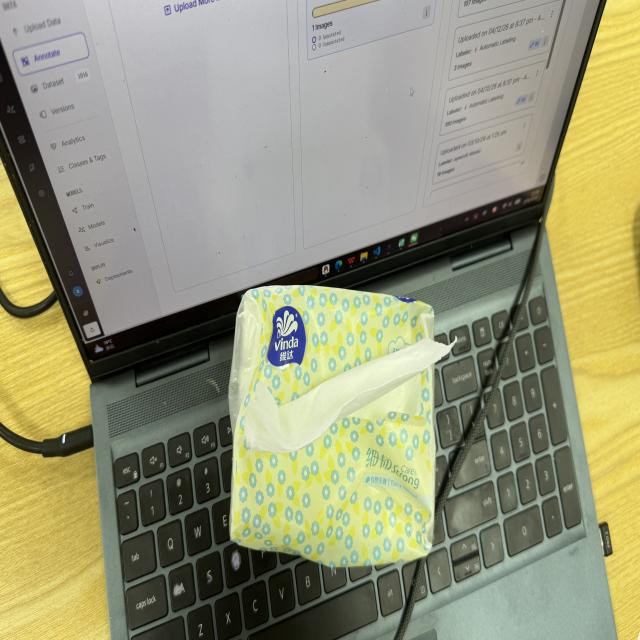tissue: (230, 287, 450, 565)
